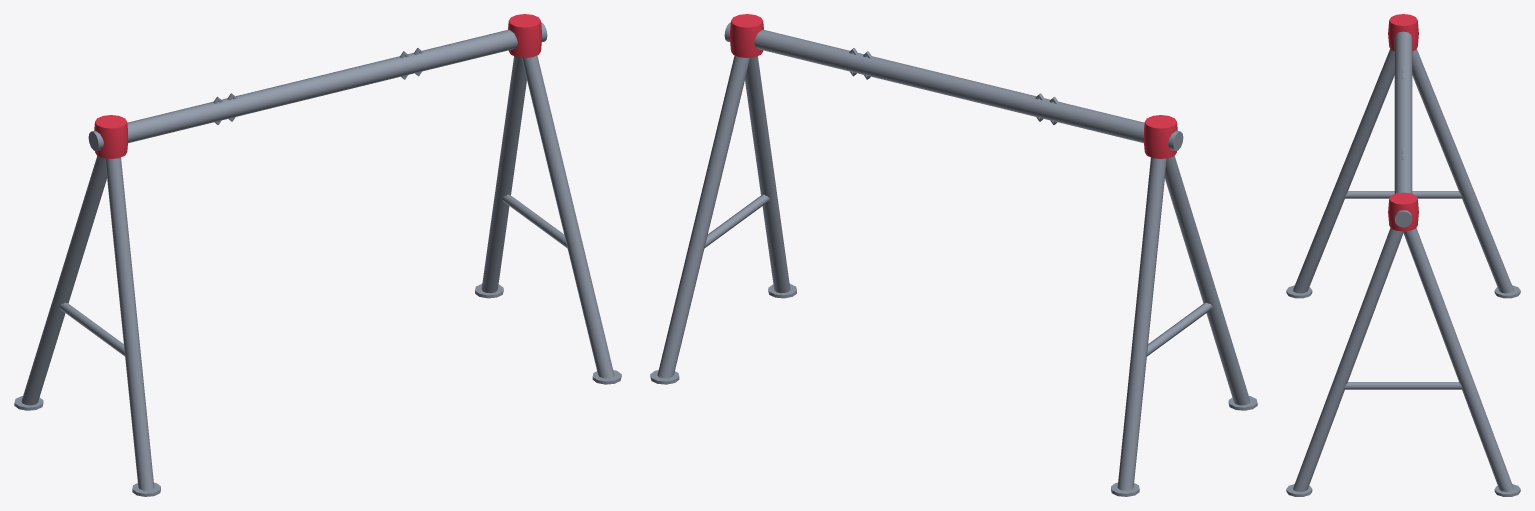
The model's file is SwingSet.fbx.
The picture shows the model from 3 angles, left to right: view 1: azimuth 30°, elevation 25°; view 2: azimuth 150°, elevation 25°; view 3: azimuth 270°, elevation 25°; orthographic projection. The views are drawn at different scales.
Parts seen in each view (by area): view 1: SwingSet; view 2: SwingSet; view 3: SwingSet.
Boxes of the visible parts, left/top/right/bottom form: SwingSet: left=14, top=14, right=621, bottom=496; SwingSet: left=650, top=14, right=1257, bottom=496; SwingSet: left=1286, top=14, right=1520, bottom=496.
Size of the model in its own units: 8.32 by 5.29 by 3.94.
